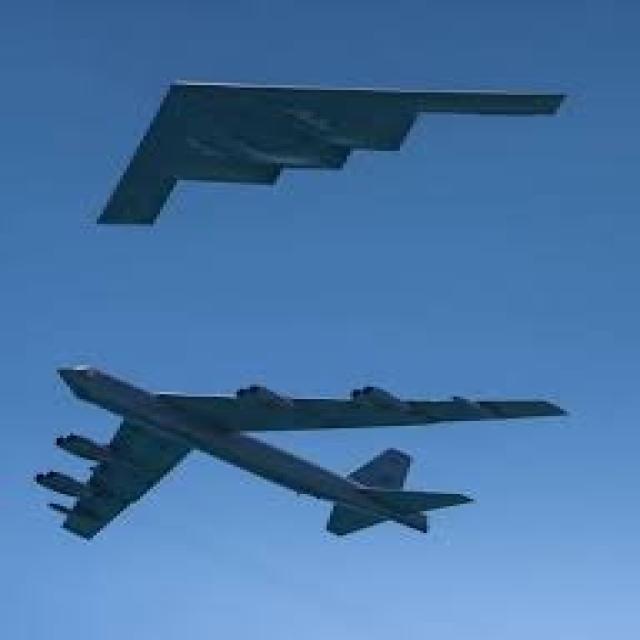B52: (9, 303, 581, 572), (73, 47, 621, 244)
